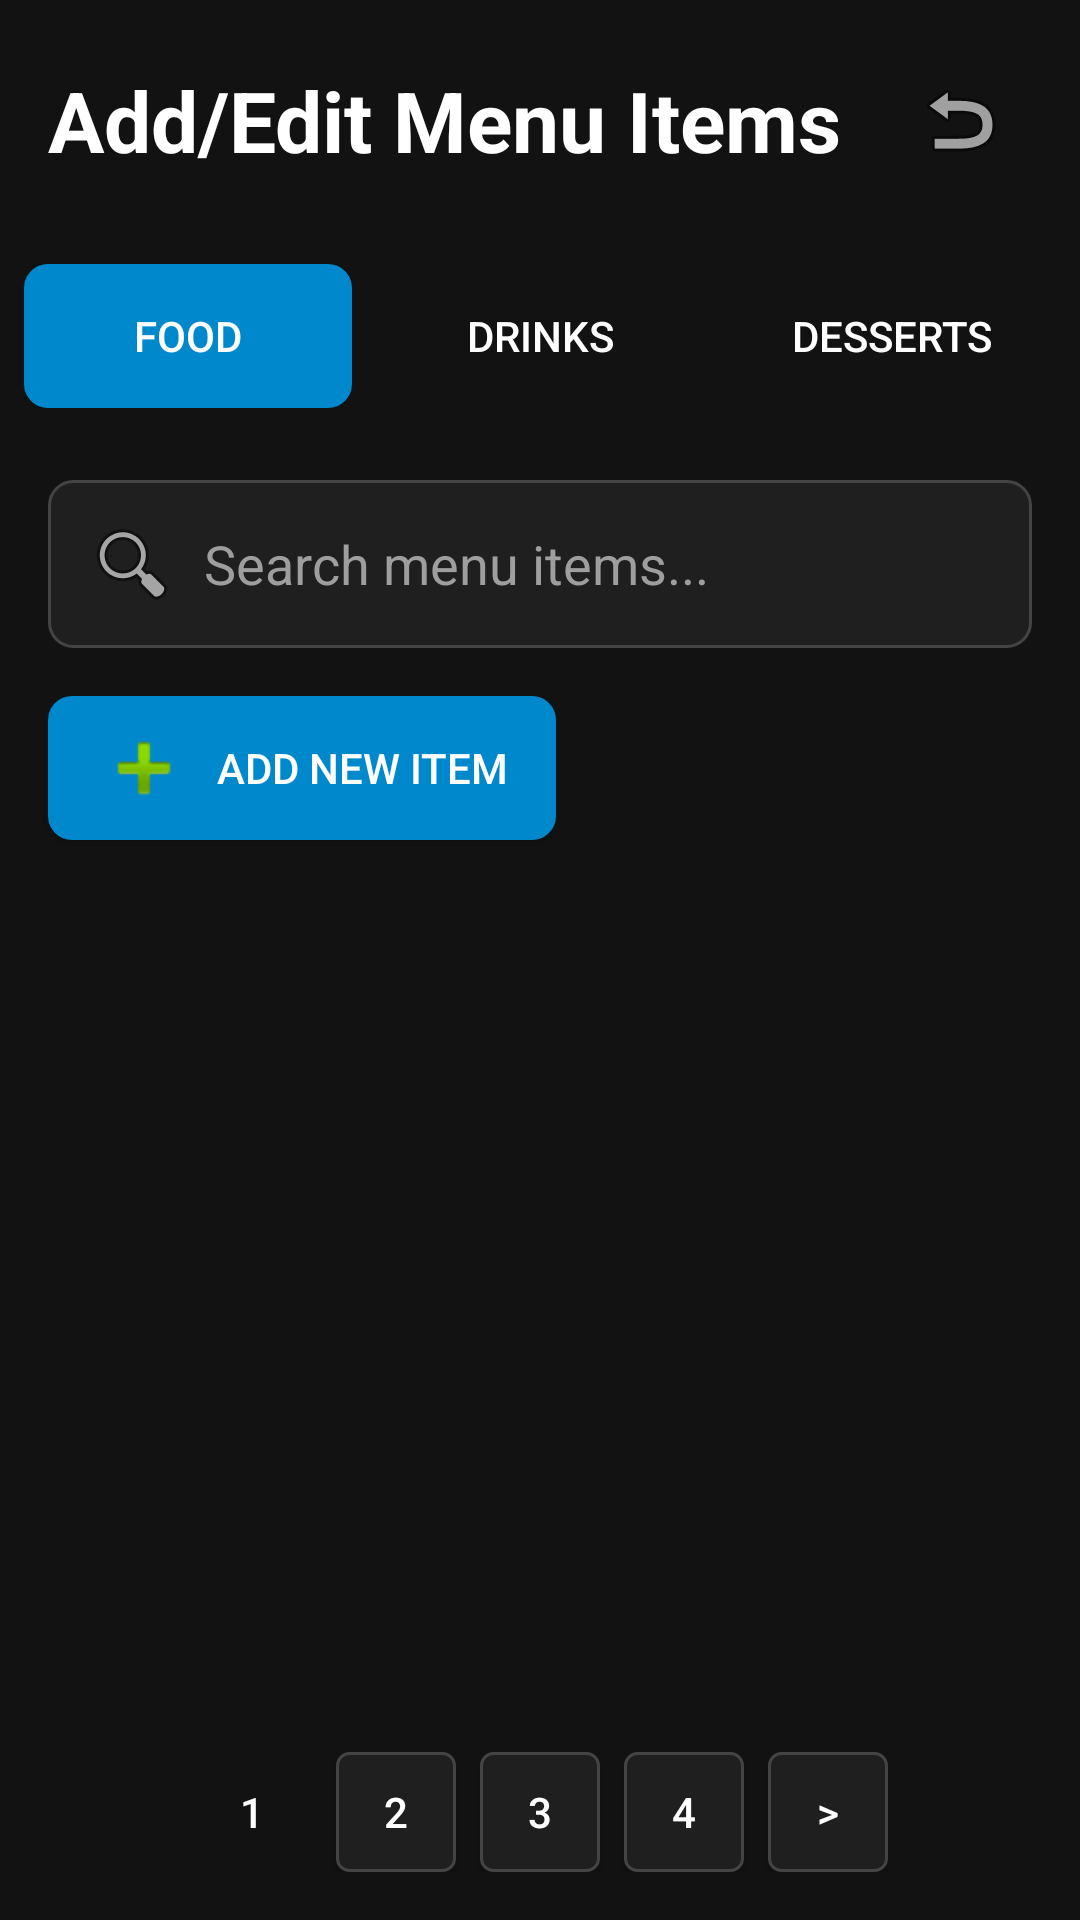

Where to tap for icons on this 1080 × 1920 app screen, as (x=x, y=y):
Back: (x=961, y=120)
